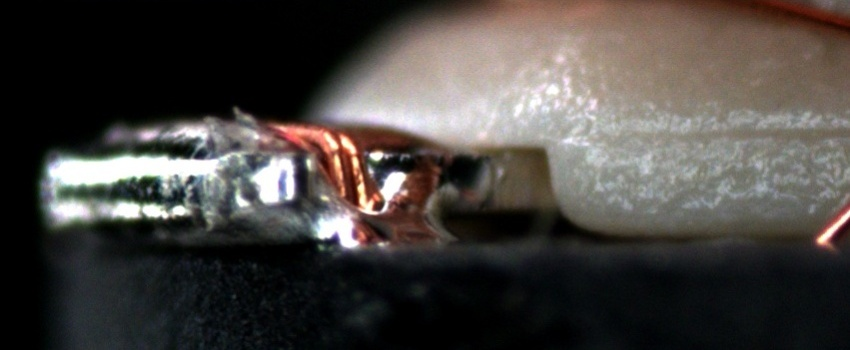DL: (581, 103, 849, 167)
TE: (260, 122, 383, 222)
